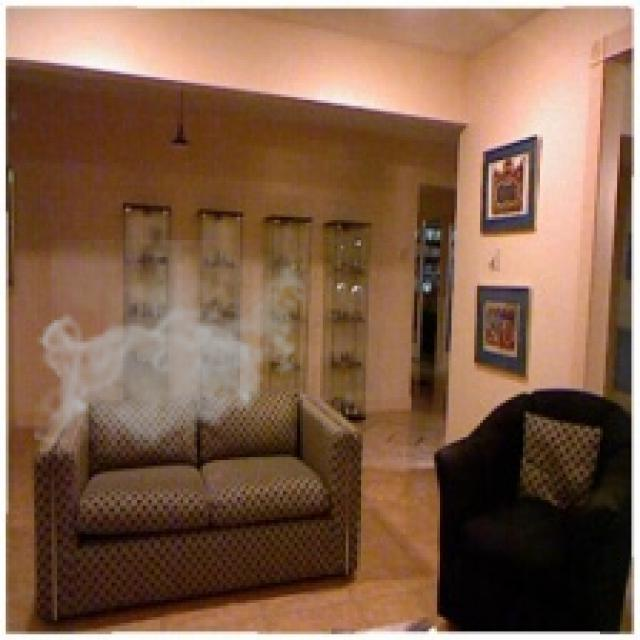smoke: (34, 240, 314, 457)
